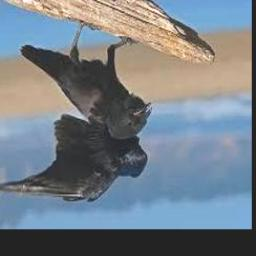Crow: (0, 18, 152, 204)
